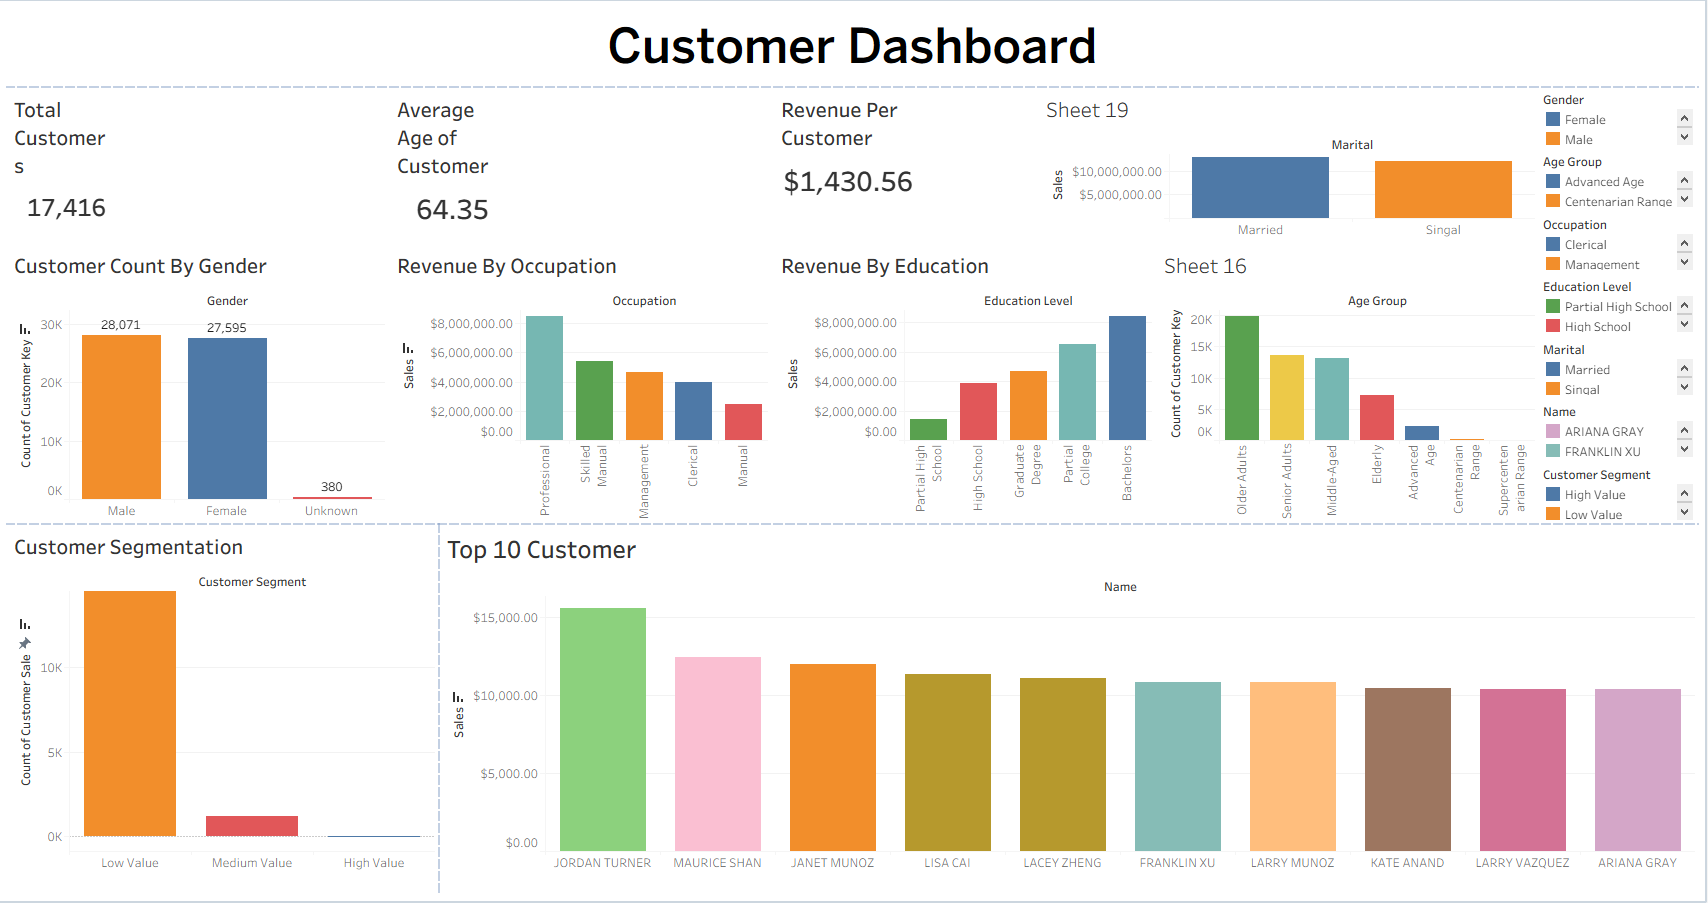

What the dashboard file says about the page in this screenshot:
{"tool":"tableau","page":{"name":"Dashboard 2","canvas":[1000,1000],"units":"permille","ordinal":1},"visuals":[{"type":"text","box":[4.7,8.8,990.6,88.5]},{"type":"worksheet","title":"Sheet 12","mark":"Automatic","box":[4.7,97.4,224.3,173]},{"type":"worksheet","title":"Sheet 14","mark":"Automatic","box":[228.9,97.4,224.2,173]},{"type":"worksheet","title":"Sheet 13","mark":"Automatic","box":[453.2,97.4,155.3,173]},{"type":"worksheet","title":"Sheet 19","mark":"Automatic","rows":["Sales"],"cols":["Marital"],"box":[608.5,97.4,293.2,173]},{"type":"legend","title":"Sheet 15","param":"[federated.1aws9jr1iyr5lv11f7j1b1no7b1o].[none:Gender:nk]","box":[901.7,97.4,93.6,69]},{"type":"legend","title":"Sheet 16","param":"[federated.1aws9jr1iyr5lv11f7j1b1no7b1o].[none:AgeGroup:nk]","box":[901.7,166.4,93.6,69]},{"type":"legend","title":"Sheet 17","param":"[federated.1aws9jr1iyr5lv11f7j1b1no7b1o].[none:Occupation:nk]","box":[901.7,235.5,93.6,69]},{"type":"worksheet","title":"Sheet 15","mark":"Automatic","rows":["CustomerKey"],"cols":["Gender"],"box":[4.7,270.3,224.3,310.4]},{"type":"worksheet","title":"Sheet 17","mark":"Automatic","rows":["Sales"],"cols":["Occupation"],"box":[228.9,270.3,224.2,310.4]},{"type":"worksheet","title":"Sheet 18","mark":"Automatic","rows":["Sales"],"cols":["EducationLevel"],"box":[453.2,270.3,224.2,310.4]},{"type":"worksheet","title":"Sheet 16","mark":"Automatic","rows":["CustomerKey"],"cols":["AgeGroup"],"box":[677.4,270.3,224.3,310.4]},{"type":"legend","title":"Sheet 18","param":"[federated.1aws9jr1iyr5lv11f7j1b1no7b1o].[none:EducationLevel:nk]","box":[901.7,304.5,93.6,69]},{"type":"legend","title":"Sheet 19","param":"[federated.1aws9jr1iyr5lv11f7j1b1no7b1o].[none:Marital:nk]","box":[901.7,373.6,93.6,69]},{"type":"legend","title":"Sheet 20","param":"[federated.1aws9jr1iyr5lv11f7j1b1no7b1o].[none:Name:nk]","box":[901.7,442.6,93.6,69]},{"type":"legend","title":"Sheet 21","param":"[federated.1aws9jr1iyr5lv11f7j1b1no7b1o].[none:Calculation_0080559422611465:nk]","box":[901.7,511.7,93.6,69.1]},{"type":"worksheet","title":"Sheet 21","mark":"Automatic","rows":["Calculation_0080559422197768"],"cols":["Calculation_0080559422611465"],"box":[4.7,580.8,253.4,410.4]},{"type":"worksheet","title":"Sheet 20","mark":"Automatic","rows":["Sales"],"cols":["Name"],"box":[258.1,580.8,737.3,410.4]}]}

Visuals, with their boxes on the dashboard's canvas, which has no fixed pixel size, in thousandths of its width and height (x1, y1, x2, y2). These are canvas units, not pixel positions in the 1708x903 screenshot, which may show the page scaled, cropped or inside an application window:
text: 5/9/995/97
"Sheet 12" worksheet: 5/97/229/270
"Sheet 14" worksheet: 229/97/453/270
"Sheet 13" worksheet: 453/97/608/270
"Sheet 19" worksheet: 608/97/902/270
"Sheet 15" legend: 902/97/995/166
"Sheet 16" legend: 902/166/995/235
"Sheet 17" legend: 902/236/995/304
"Sheet 15" worksheet: 5/270/229/581
"Sheet 17" worksheet: 229/270/453/581
"Sheet 18" worksheet: 453/270/677/581
"Sheet 16" worksheet: 677/270/902/581
"Sheet 18" legend: 902/304/995/374
"Sheet 19" legend: 902/374/995/443
"Sheet 20" legend: 902/443/995/512
"Sheet 21" legend: 902/512/995/581
"Sheet 21" worksheet: 5/581/258/991
"Sheet 20" worksheet: 258/581/995/991
